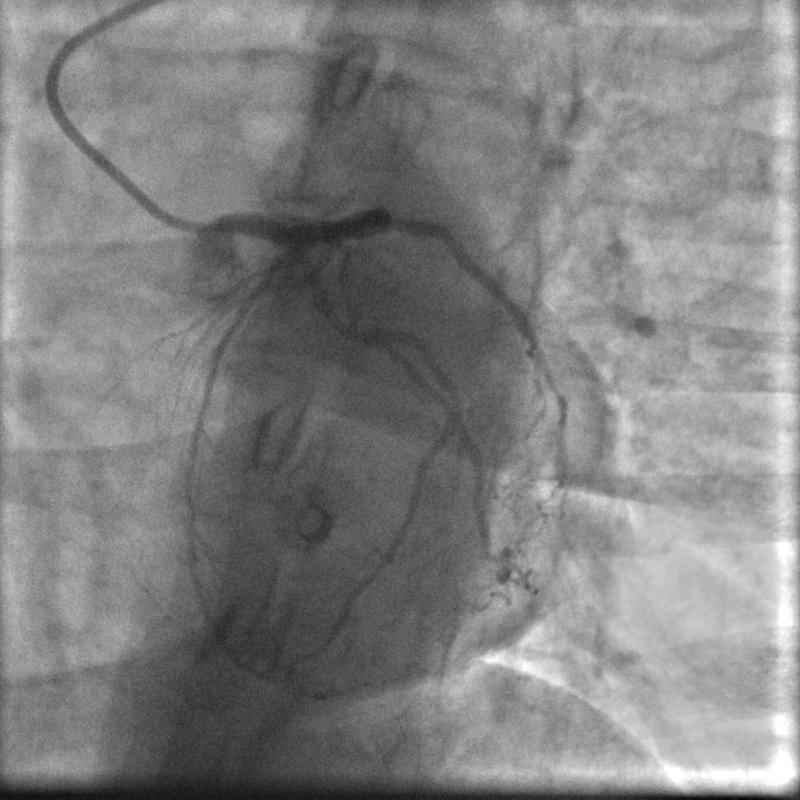Stenosis: (322, 313, 373, 353)
